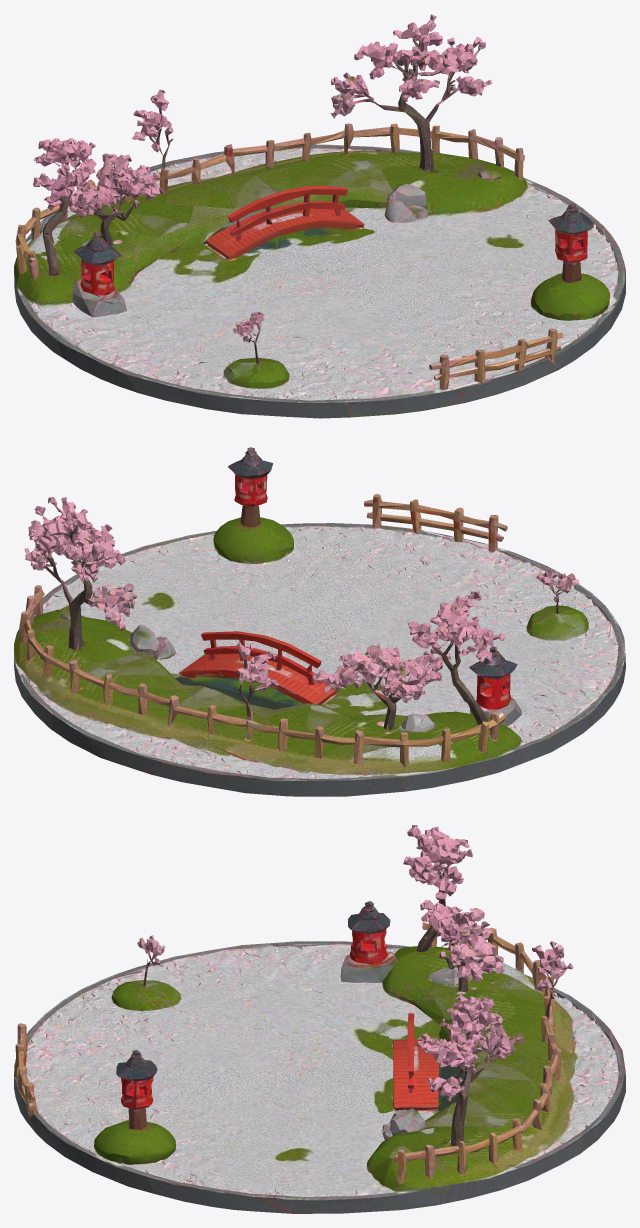
Rendered from ilha-dojo.glb.
3 views of the same model, one above another, from view 1: azimuth 30°, elevation 25°; view 2: azimuth 150°, elevation 25°; view 3: azimuth 270°, elevation 25° (orthographic).
Size of the model in its own units: 1.9 by 0.6126 by 1.9.
1 material, 1 textured.
